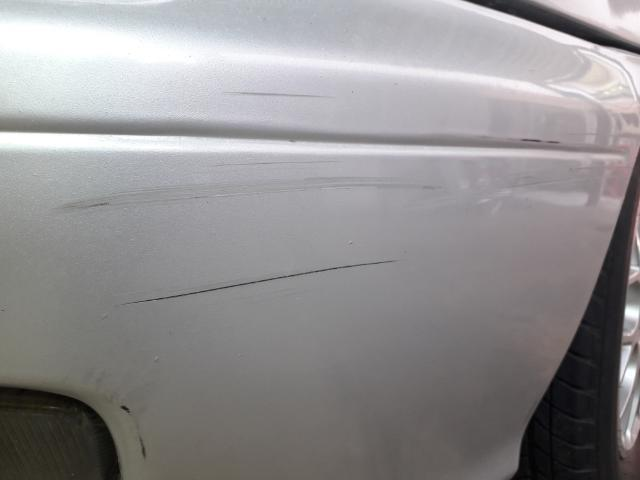scratch: (56, 175, 452, 220), (112, 259, 402, 311), (112, 397, 150, 468), (227, 90, 333, 101)
